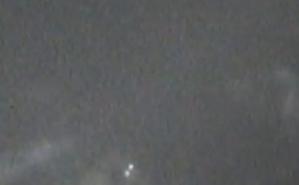Target: (126, 164, 134, 175)
